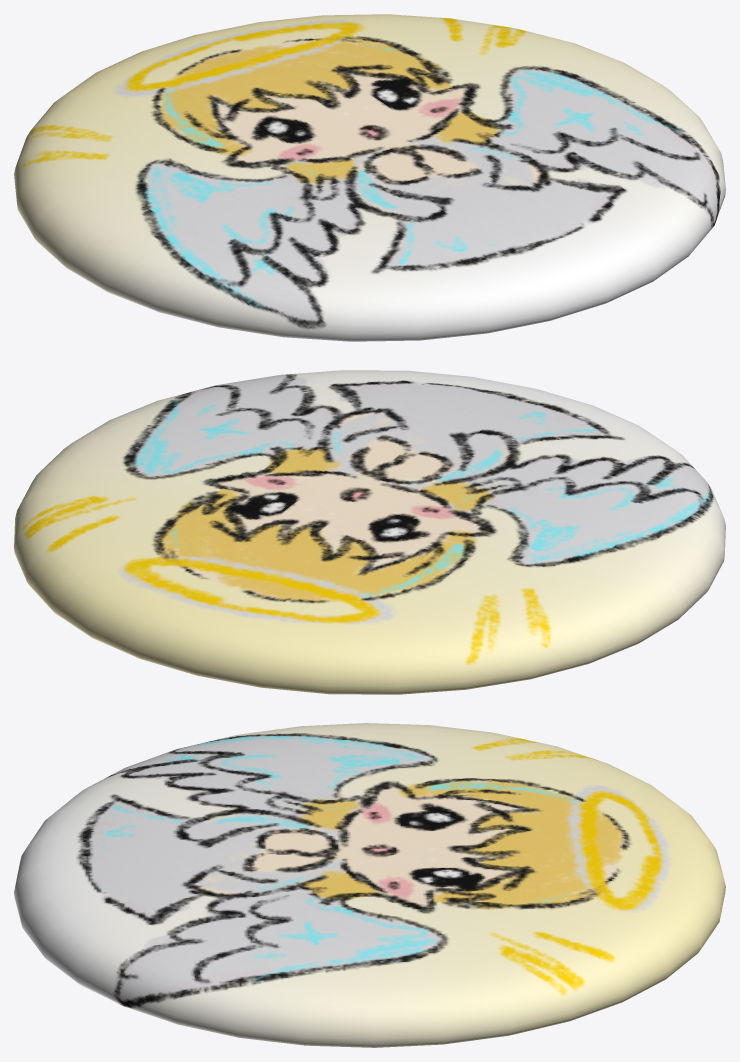
The picture shows the model from 3 angles, top to bottom: view 1: azimuth 30°, elevation 25°; view 2: azimuth 150°, elevation 25°; view 3: azimuth 270°, elevation 25°; orthographic projection.
Parts seen in each view (by area): view 1: Button_Pin; view 2: Button_Pin; view 3: Button_Pin.
Part boxes in pixels (box(x1,y1,x2,y2)): Button_Pin: box(14, 14, 725, 341); Button_Pin: box(14, 370, 725, 694); Button_Pin: box(14, 723, 725, 1047).
Bounding box in the file's own units: 0.0629 × 0.00761 × 0.0629.
Materials: 3 (2 with a texture image).
